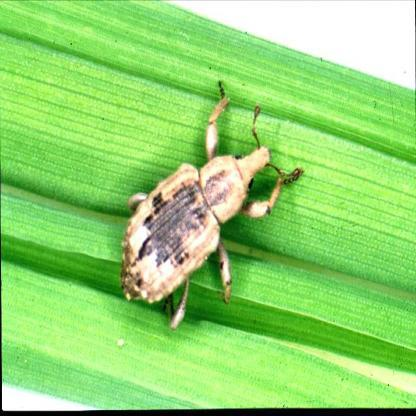rice-bug: (119, 115, 276, 332)
